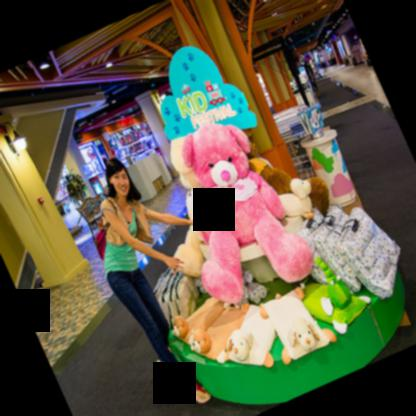handbag: (94, 221, 111, 261)
